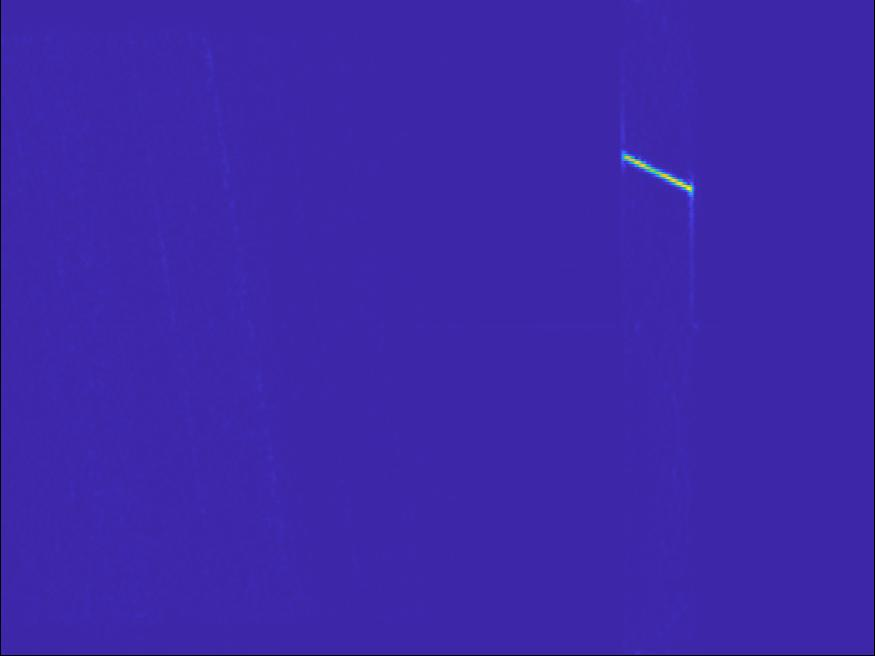Interference: (1, 136, 202, 315), (405, 279, 583, 372), (104, 409, 204, 492), (7, 290, 133, 329), (651, 305, 746, 347), (738, 582, 838, 617)
